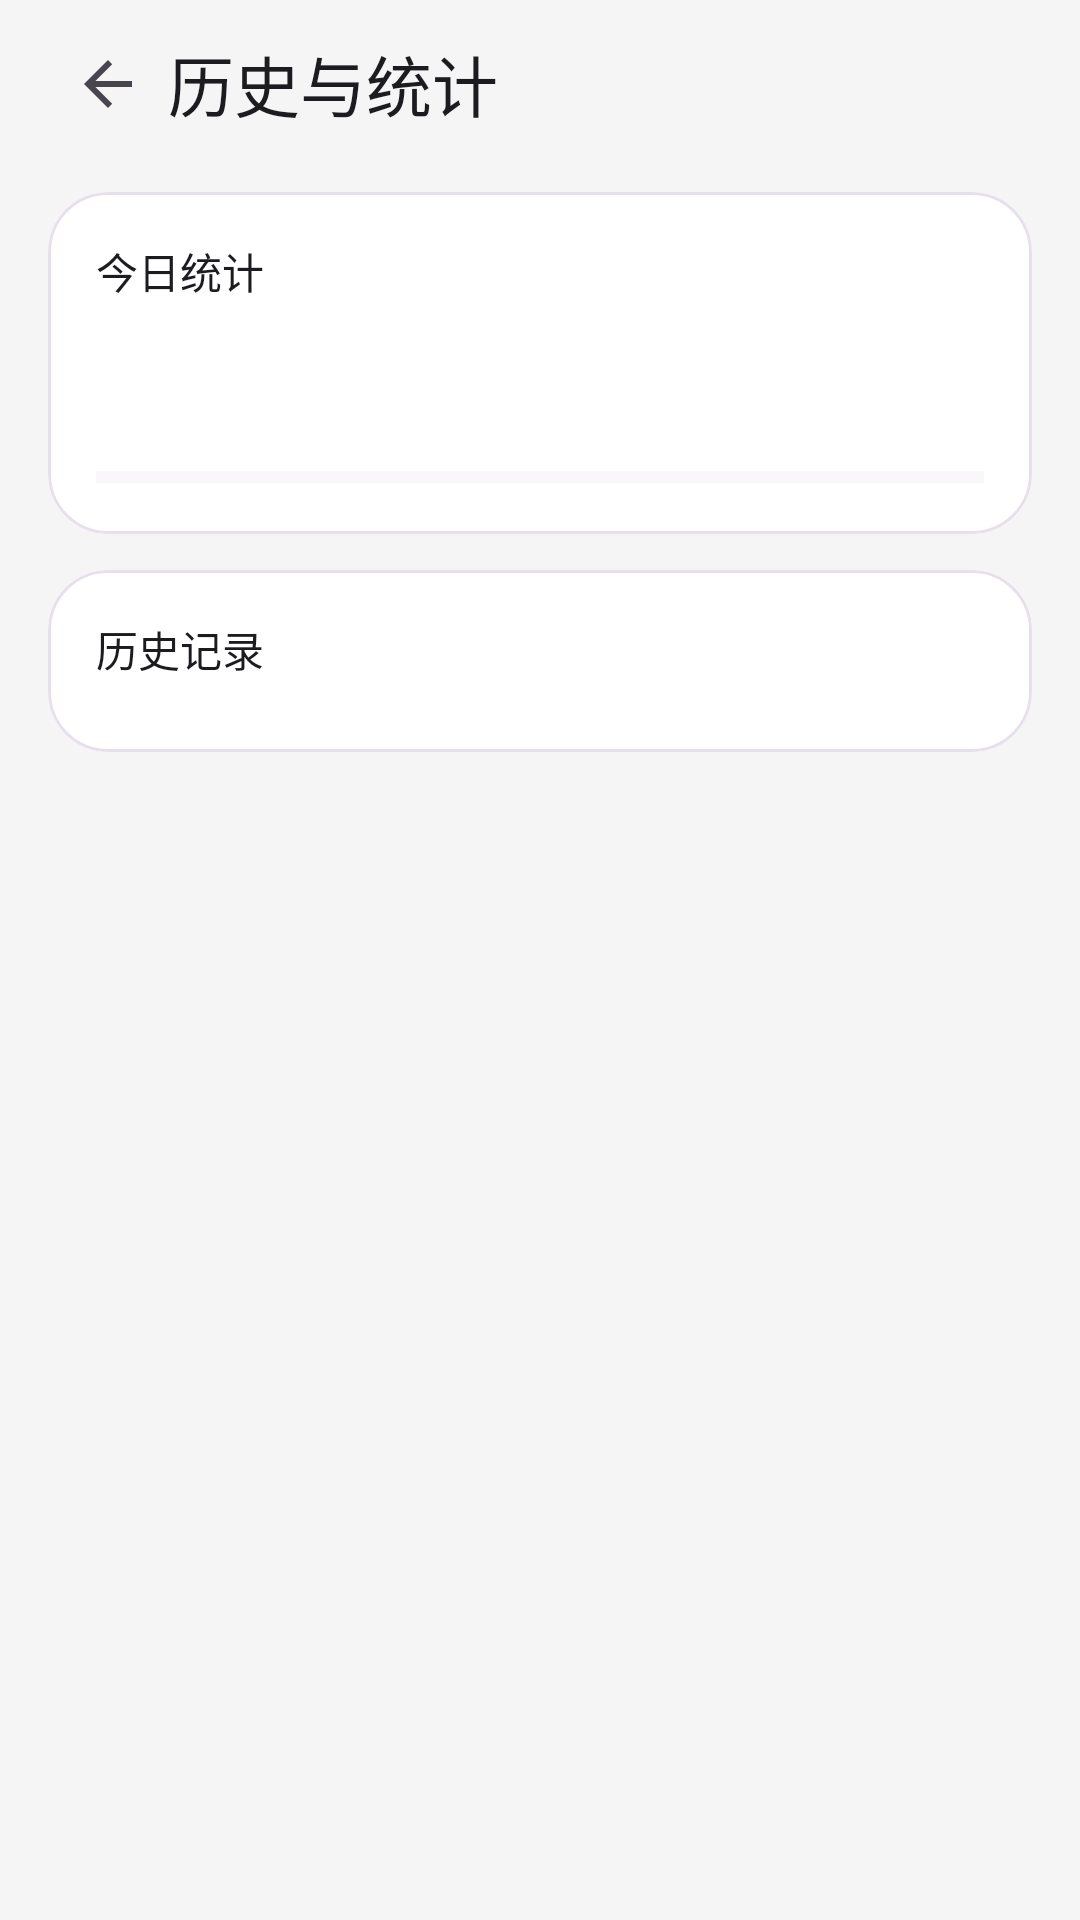

Screen size 1080*1920. Icon name, then its box in pixels as {"x1": x1, "y1": y1, "x2": x2, "y2": y2}:
返回: {"x1": 84, "y1": 60, "x2": 132, "y2": 108}
